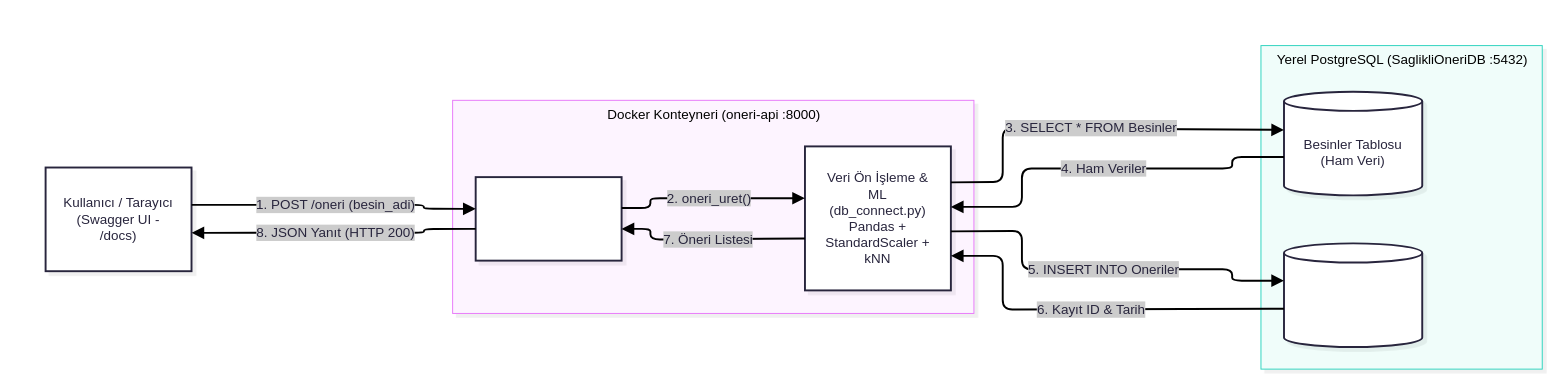
Image size: 1563x390. Some labels were removed from this diagram. Here are the shapes that lost their labels. From the top down, the centre of each, then its label:
At point (550, 220): "FastAPI Backend (main.py & Uvicorn)".
At point (1355, 296): "Oneriler Tablosu (Sonuç Kaydı)".
